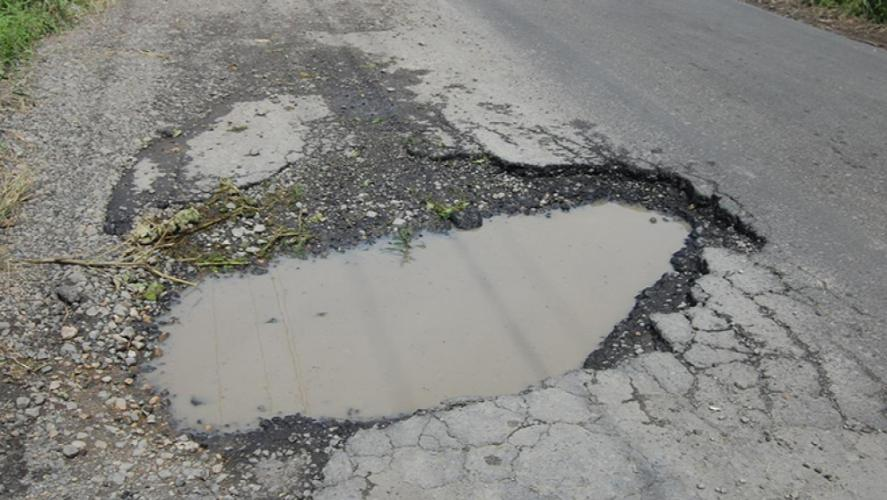Pothole: (103, 96, 771, 444)
